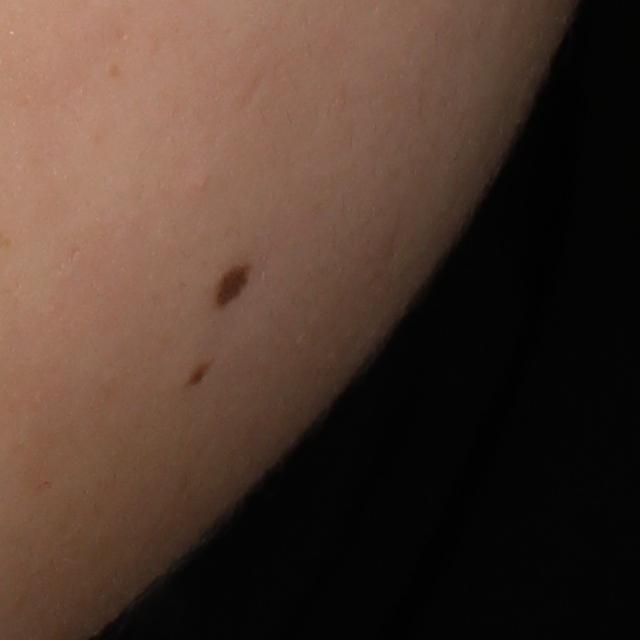comedo: (193, 169, 216, 196)
nevus: (213, 265, 251, 312), (182, 360, 215, 391)
